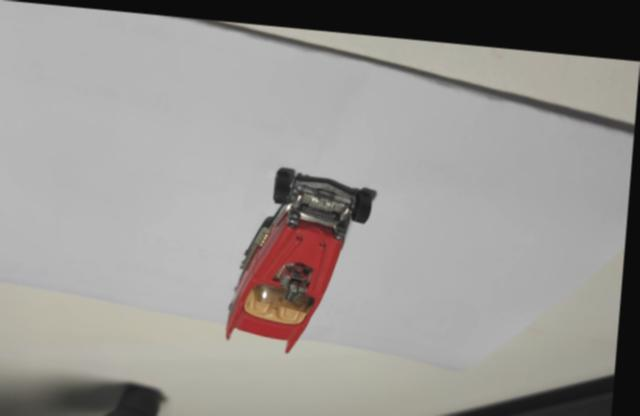03_V8: (229, 160, 380, 346)
